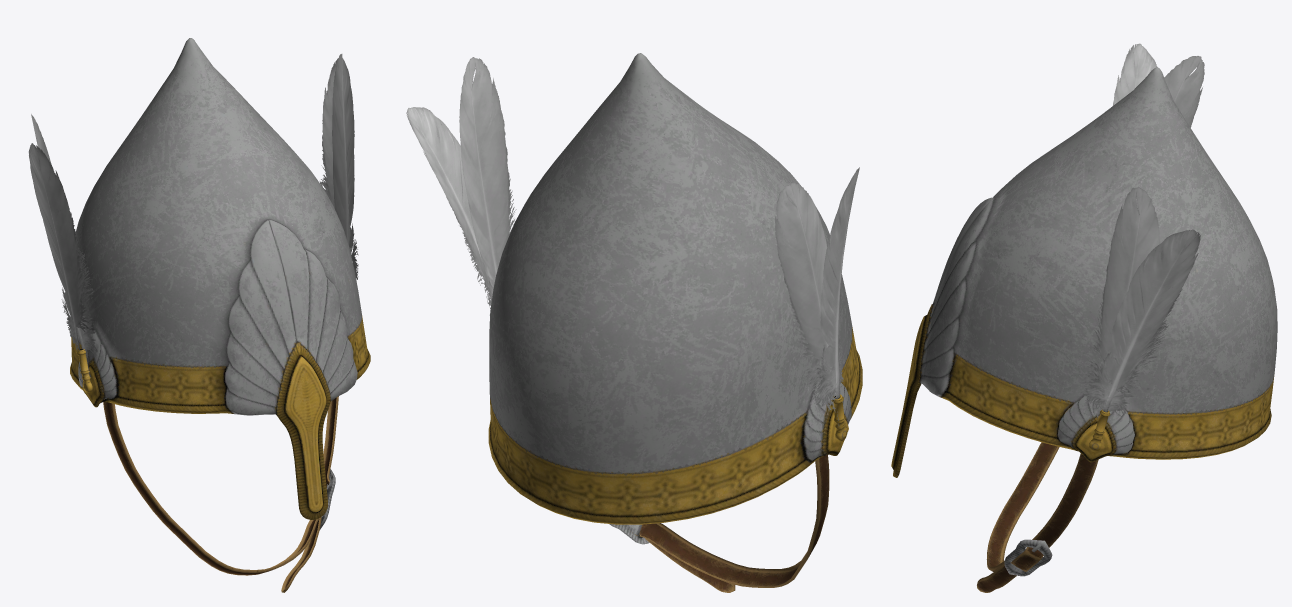
File: pelargirmarine_helmet_1_b_plume.fbx
3 views of the same model, side by side, from view 1: azimuth 30°, elevation 25°; view 2: azimuth 150°, elevation 25°; view 3: azimuth 270°, elevation 25° (orthographic). The views are drawn at different scales.
Visible parts, largest first — view 1: pelargirmarine_helmet_1_b_plume.0, pelargirmarine_helmet_1_b_plume.1; view 2: pelargirmarine_helmet_1_b_plume.0, pelargirmarine_helmet_1_b_plume.1; view 3: pelargirmarine_helmet_1_b_plume.0, pelargirmarine_helmet_1_b_plume.1.
Boxes of the visible parts, box(x1,y1,x2,y2) form: pelargirmarine_helmet_1_b_plume.0: box(70, 38, 370, 592); pelargirmarine_helmet_1_b_plume.1: box(28, 54, 358, 392); pelargirmarine_helmet_1_b_plume.0: box(488, 53, 862, 592); pelargirmarine_helmet_1_b_plume.1: box(406, 57, 859, 441); pelargirmarine_helmet_1_b_plume.0: box(891, 67, 1277, 592); pelargirmarine_helmet_1_b_plume.1: box(1079, 43, 1204, 451).
Size of the model in its own units: 0.2926 by 0.2744 by 0.4072.
Materials: 2 (2 with a texture image).
